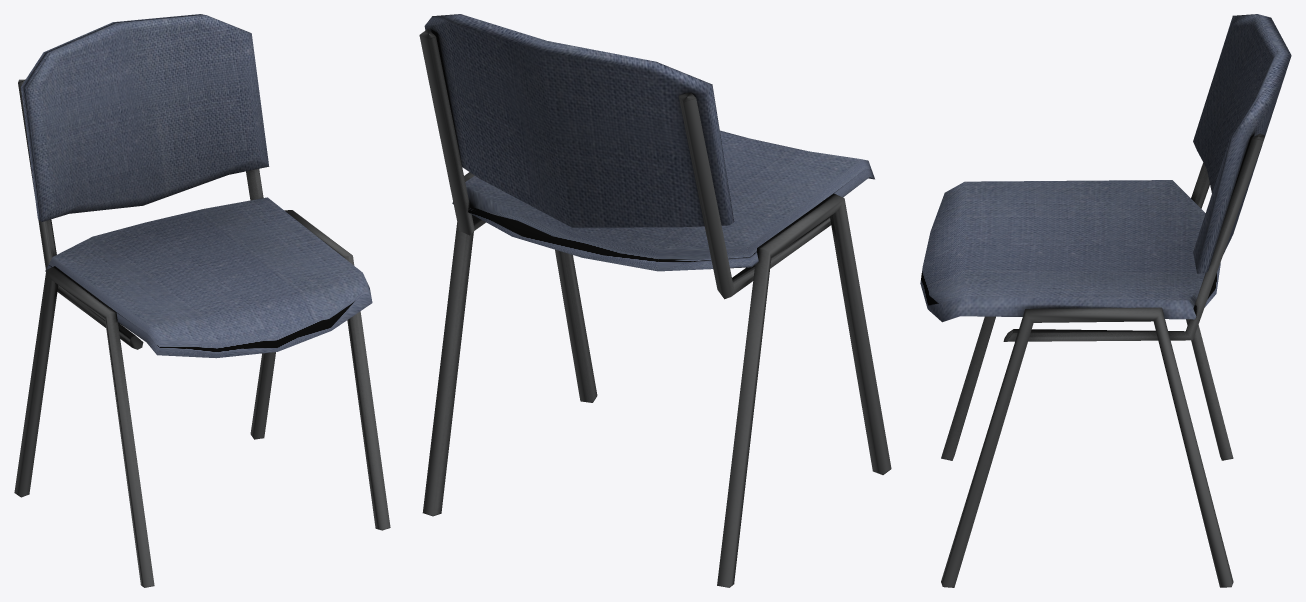
The model's file is Office_Chair_1_LowPoly.fbx.
3 views of the same model, side by side, from view 1: azimuth 30°, elevation 25°; view 2: azimuth 150°, elevation 25°; view 3: azimuth 270°, elevation 25° (orthographic). The views are drawn at different scales.
Visible parts, largest first — view 1: Office_Chair_1; view 2: Office_Chair_1; view 3: Office_Chair_1.
Part boxes in pixels (x1,y1,x2,y2): Office_Chair_1: [14, 14, 390, 587]; Office_Chair_1: [419, 14, 891, 587]; Office_Chair_1: [920, 14, 1291, 587].
Size of the model in its own units: 47.96 by 79.13 by 56.44.
